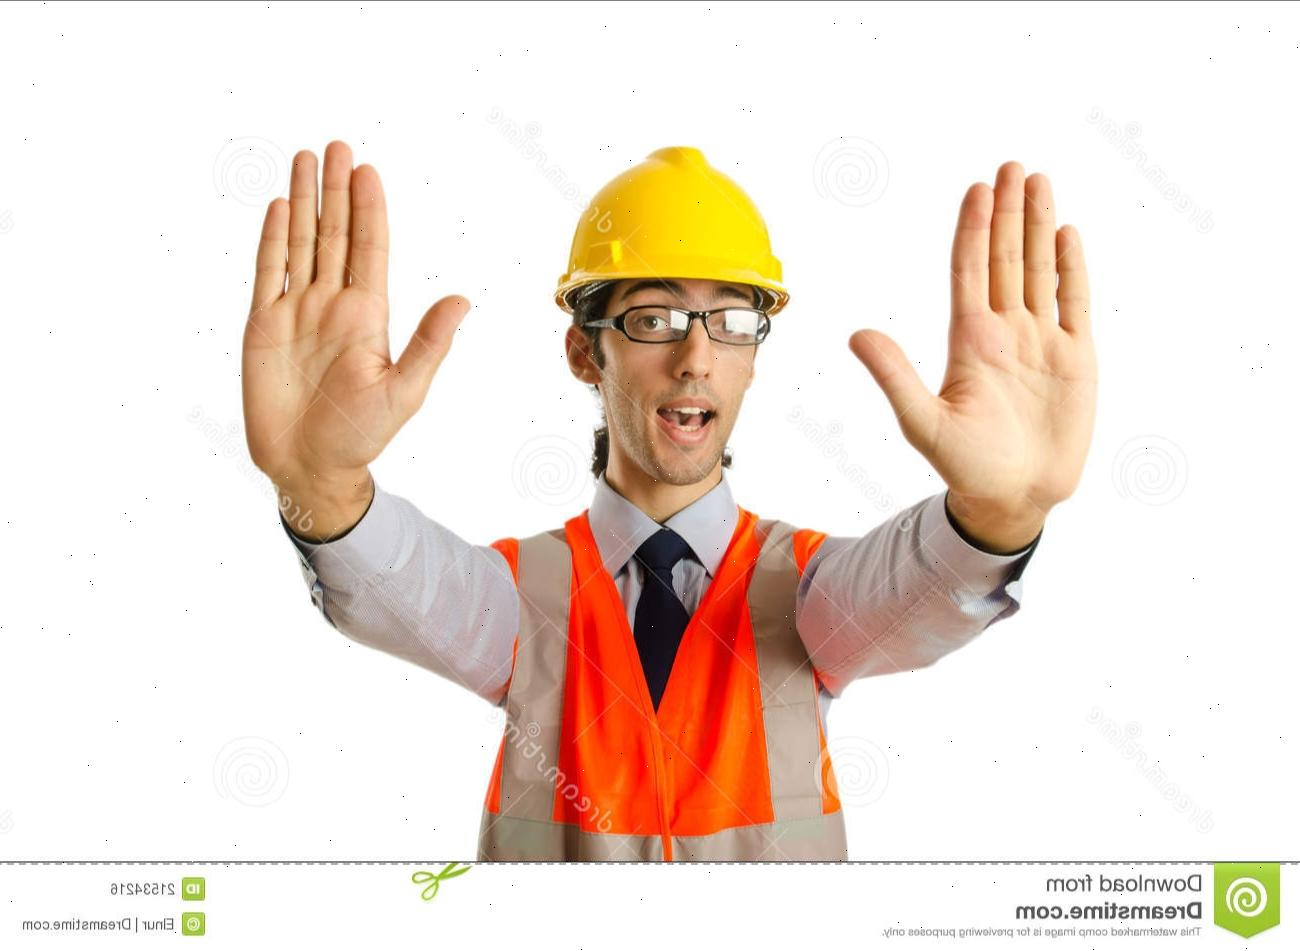helmet: (548, 149, 792, 313)
wear: (479, 517, 841, 865)
